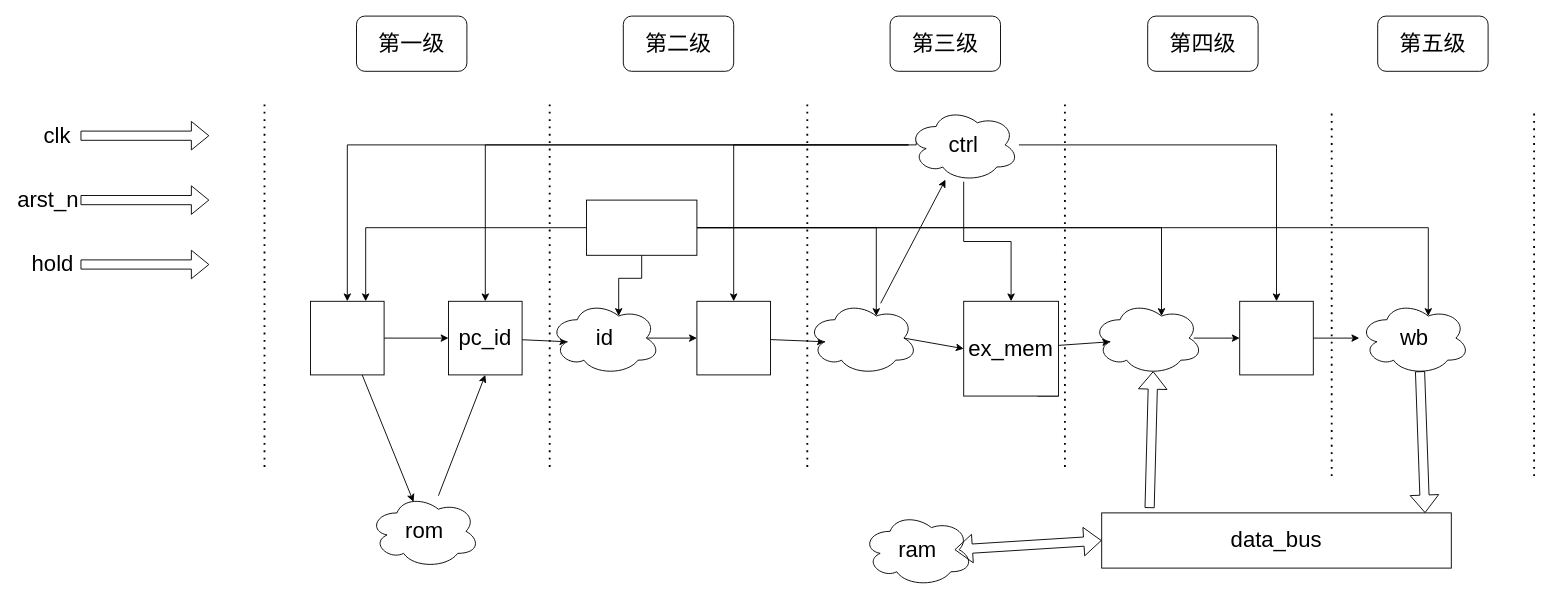
The diagram is 1551 pixels wide and 603 high, and some of its shapes have lost their labels. The centre of each missing label's shape, as x and y in pixels:
ex: the point at 862,337
id_ex: the point at 733,337
mem: the point at 1147,337
mem_wb: the point at 1276,337
pc: the point at 347,337
regs: the point at 641,227
